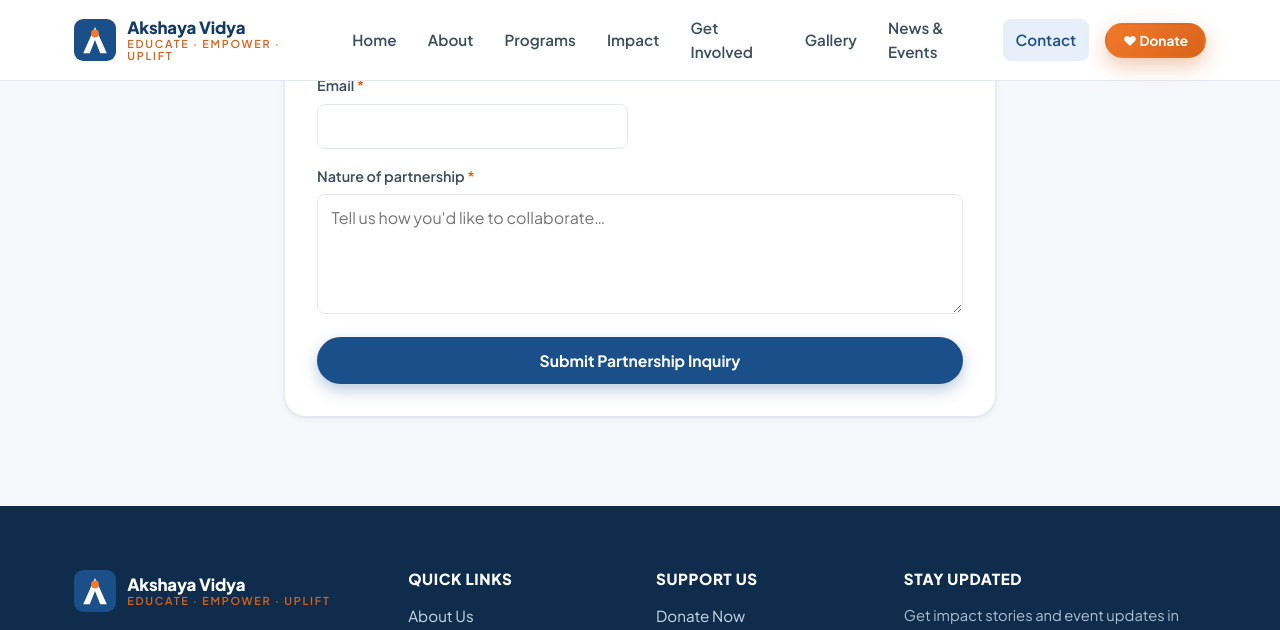
Scenario: Contact page › validates the CSR partner form (CON-03)
The image size is (1280, 630).
(page scrolled)
Click the button "Submit Partnership Inquiry" at point(640, 360), box 317,337 -> 963,384
(page scrolled)
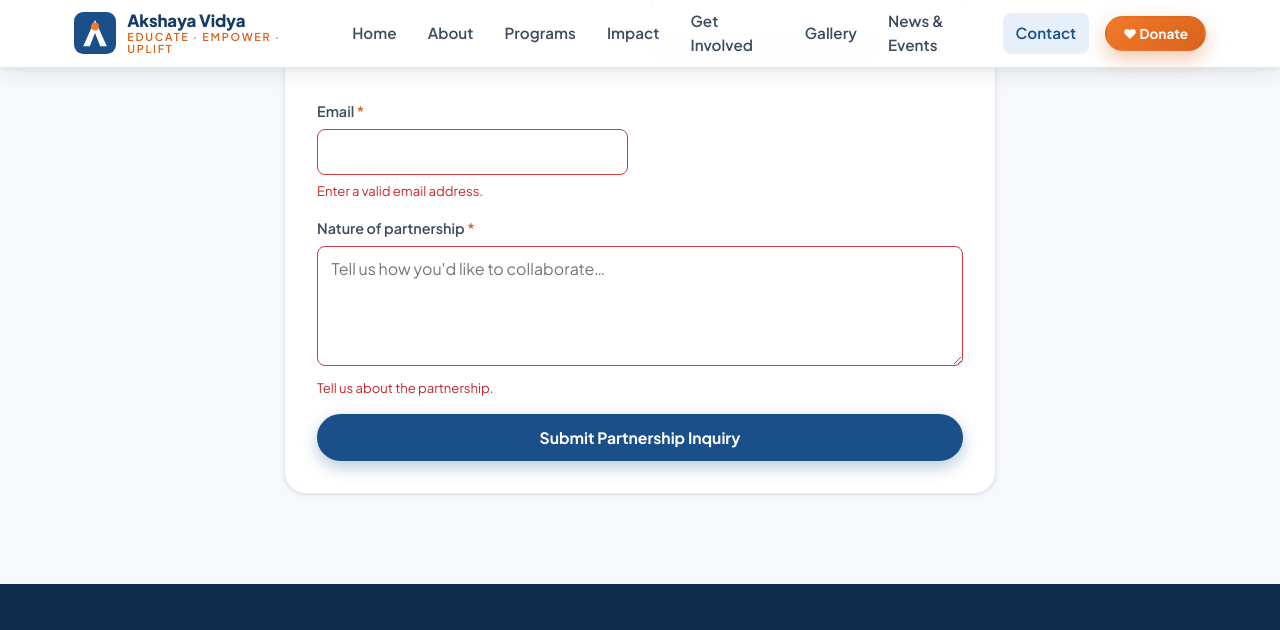
Check: the text "Enter a valid 10-digit mobile number." is shown, box 652,41 -> 878,58
